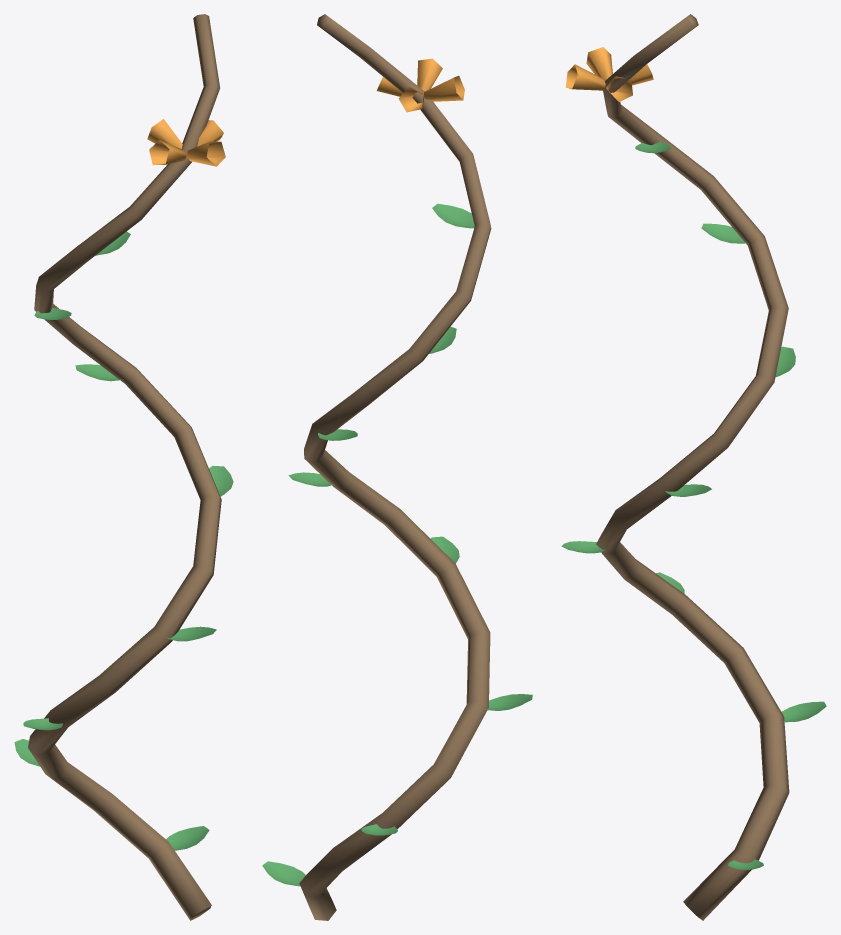
The model's file is carnivorous_jungle_liana.glb.
3 renders of one model, left to right at view 1: azimuth 30°, elevation 25°; view 2: azimuth 150°, elevation 25°; view 3: azimuth 270°, elevation 25°, orthographic.
Visible parts, largest first — view 1: Flora_Jungle_Liana; view 2: Flora_Jungle_Liana; view 3: Flora_Jungle_Liana.
Boxes of the visible parts, bbox=[...] form: Flora_Jungle_Liana: bbox=[14, 14, 233, 920]; Flora_Jungle_Liana: bbox=[262, 14, 532, 920]; Flora_Jungle_Liana: bbox=[561, 14, 826, 920].
Size of the model in its own units: 0.8452 by 3.25 by 0.8646.
